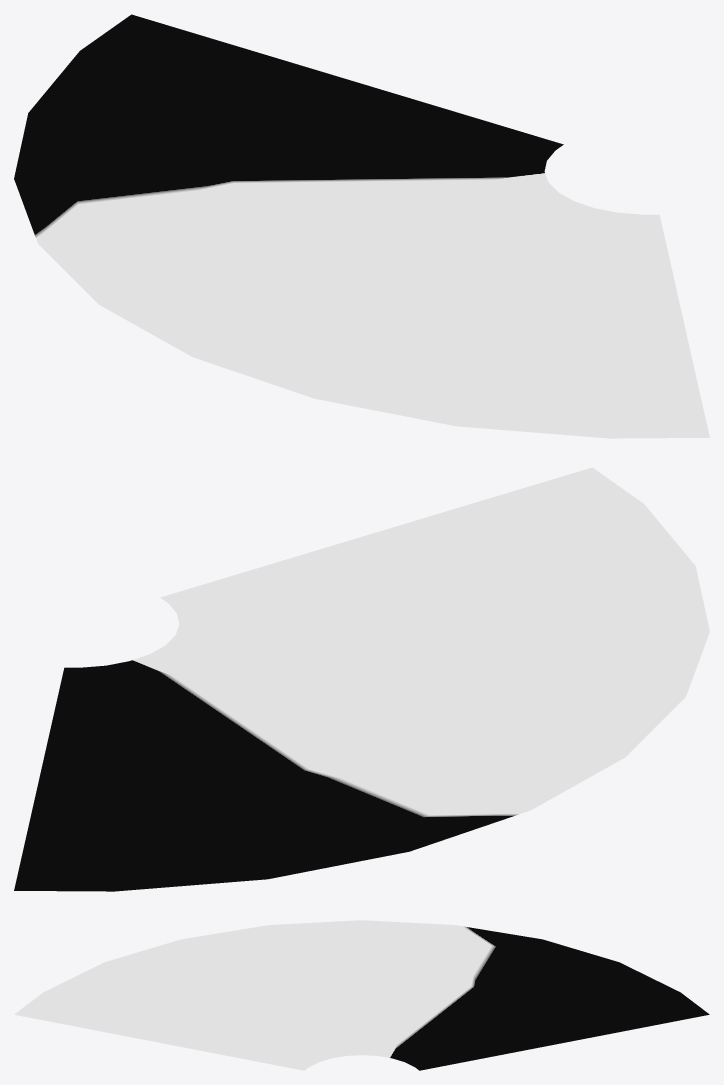
Rendered from Swipe.fbx.
3 views of the same model, one above another, from view 1: azimuth 30°, elevation 25°; view 2: azimuth 150°, elevation 25°; view 3: azimuth 270°, elevation 25° (orthographic). The views are drawn at different scales.
Visible parts, largest first — view 1: pPlane6; view 2: pPlane6; view 3: pPlane6.
Part boxes in pixels (<box>): pPlane6: <box>14,14,709,438</box>; pPlane6: <box>14,467,709,891</box>; pPlane6: <box>14,920,709,1070</box>.
Size of the model in its own units: 4.02 by 2.76e-15 by 7.85.
